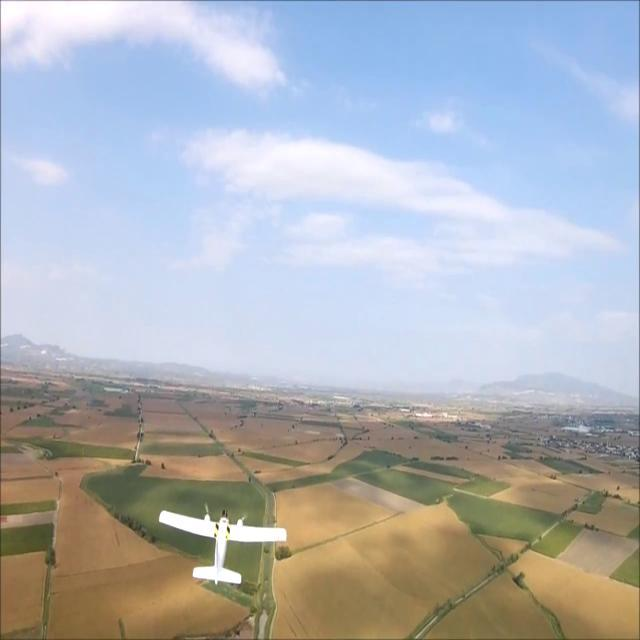iha: (155, 516, 286, 568)
